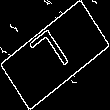L_SE: (30, 26, 80, 84)
